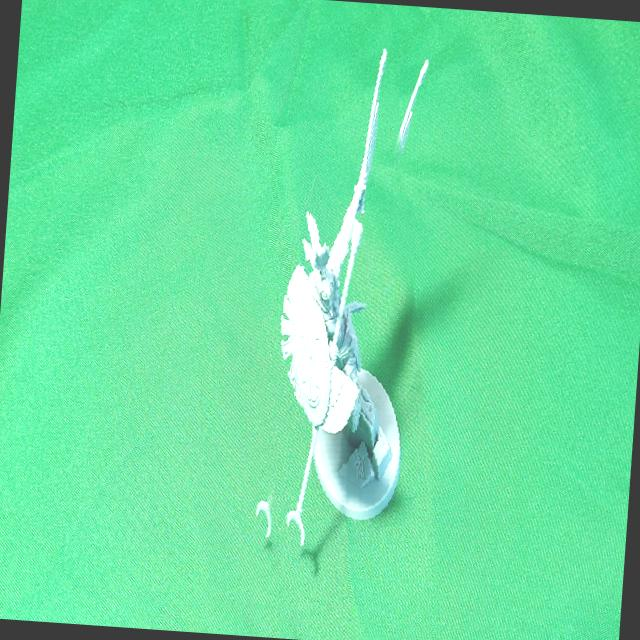isis: (205, 0, 462, 640)
